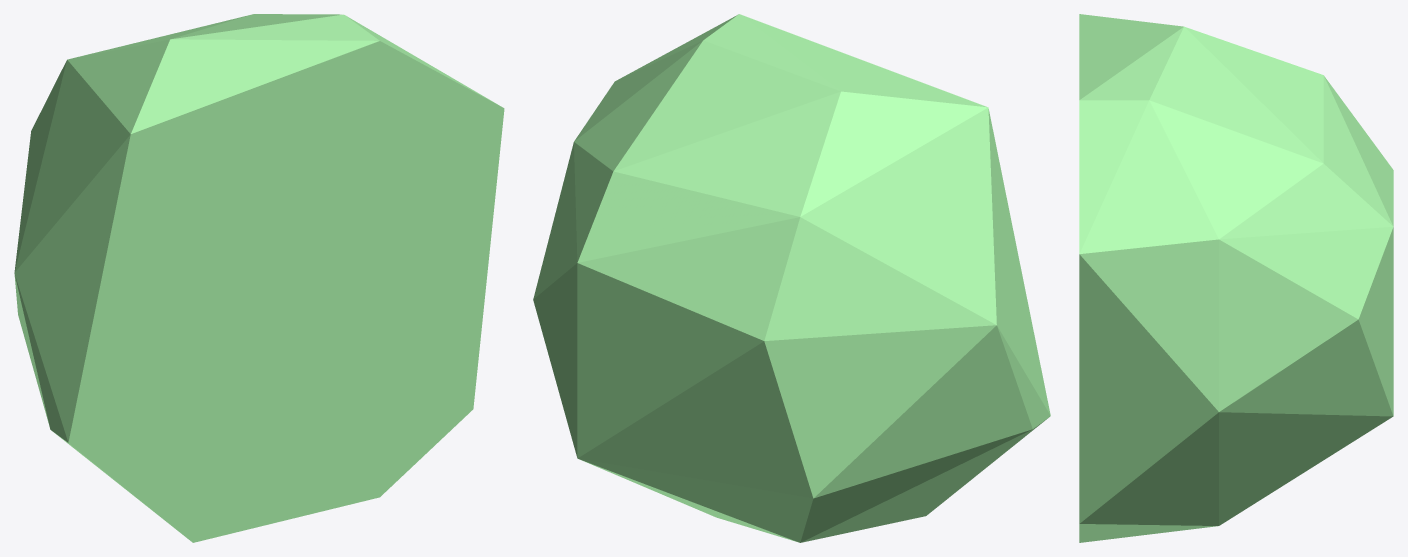
Rendered from rambler_robot_base_coll_28.dae.
3 renders of one model, left to right at view 1: azimuth 30°, elevation 25°; view 2: azimuth 150°, elevation 25°; view 3: azimuth 270°, elevation 25°, orthographic. The views are drawn at different scales.
Parts seen in each view (by area): view 1: Node_0x7fe100285c80; view 2: Node_0x7fe100285c80; view 3: Node_0x7fe100285c80.
Part boxes in pixels (x1,y1,x2,y2): Node_0x7fe100285c80: [14, 14, 504, 542]; Node_0x7fe100285c80: [533, 14, 1050, 542]; Node_0x7fe100285c80: [1079, 14, 1393, 542].
Bounding box in the file's own units: 0.1916 × 0.1916 × 0.1232.
